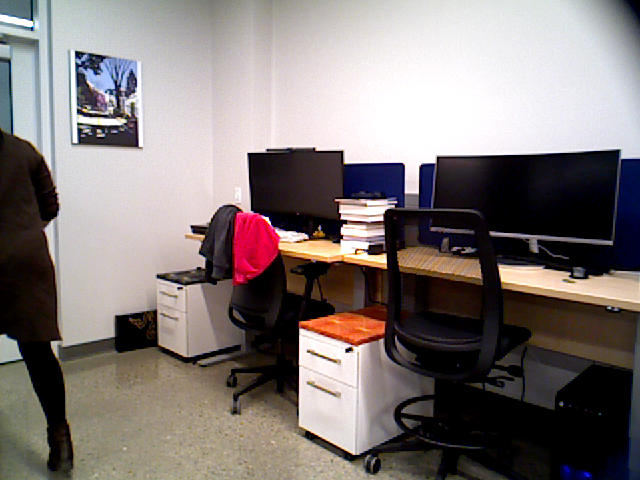painting3: (68, 50, 147, 149)
